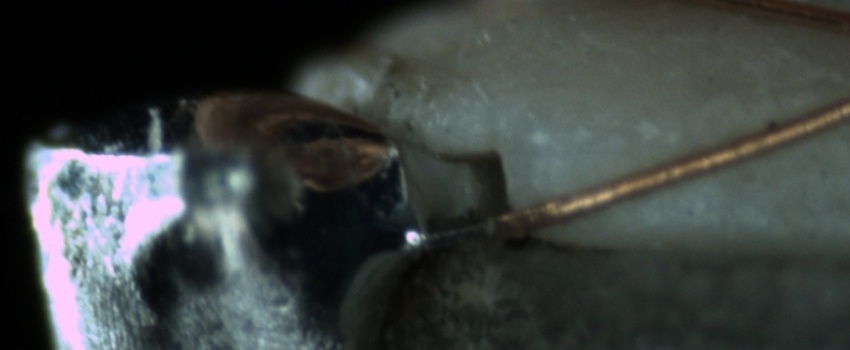DL: (531, 113, 686, 175)
